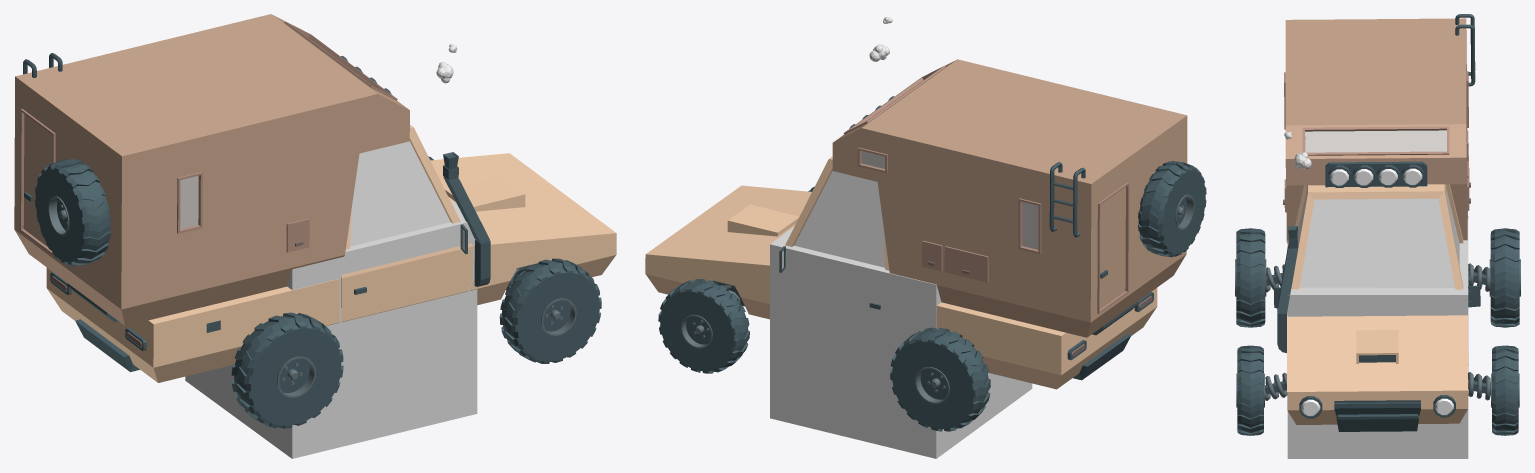
File: car_triangle.fbx
3 renders of one model, left to right at view 1: azimuth 30°, elevation 25°; view 2: azimuth 150°, elevation 25°; view 3: azimuth 270°, elevation 25°, orthographic. The views are drawn at different scales.
Parts seen in each view (by area): view 1: Frame, Cube, Rear_wheel.001, Front_wheel.001; view 2: Frame, Cube, Rear_wheel, Front_wheel; view 3: Frame, Cube, Rear_wheel.001, Rear_wheel, Front_wheel, Front_wheel.001, Spring, Spring.002, Spring.001, Spring.003.
Part boxes in pixels (bbox=[...]): Frame: bbox=[14, 14, 616, 382]; Cube: bbox=[185, 200, 477, 458]; Rear_wheel.001: bbox=[231, 312, 343, 428]; Front_wheel.001: bbox=[499, 258, 601, 363]; Frame: bbox=[645, 59, 1206, 389]; Cube: bbox=[770, 226, 1032, 458]; Rear_wheel: bbox=[890, 327, 990, 431]; Front_wheel: bbox=[658, 279, 749, 373]; Frame: bbox=[1274, 14, 1480, 431]; Cube: bbox=[1287, 219, 1468, 458]; Rear_wheel.001: bbox=[1235, 228, 1266, 327]; Rear_wheel: bbox=[1489, 228, 1520, 327]; Front_wheel: bbox=[1491, 345, 1519, 435]; Front_wheel.001: bbox=[1236, 345, 1264, 435]; Spring: bbox=[1468, 372, 1490, 400]; Spring.002: bbox=[1265, 372, 1287, 400]; Spring.001: bbox=[1468, 263, 1489, 291]; Spring.003: bbox=[1266, 264, 1284, 292].
Size of what is drawn, in the model's own units: 575 by 396 by 316.
